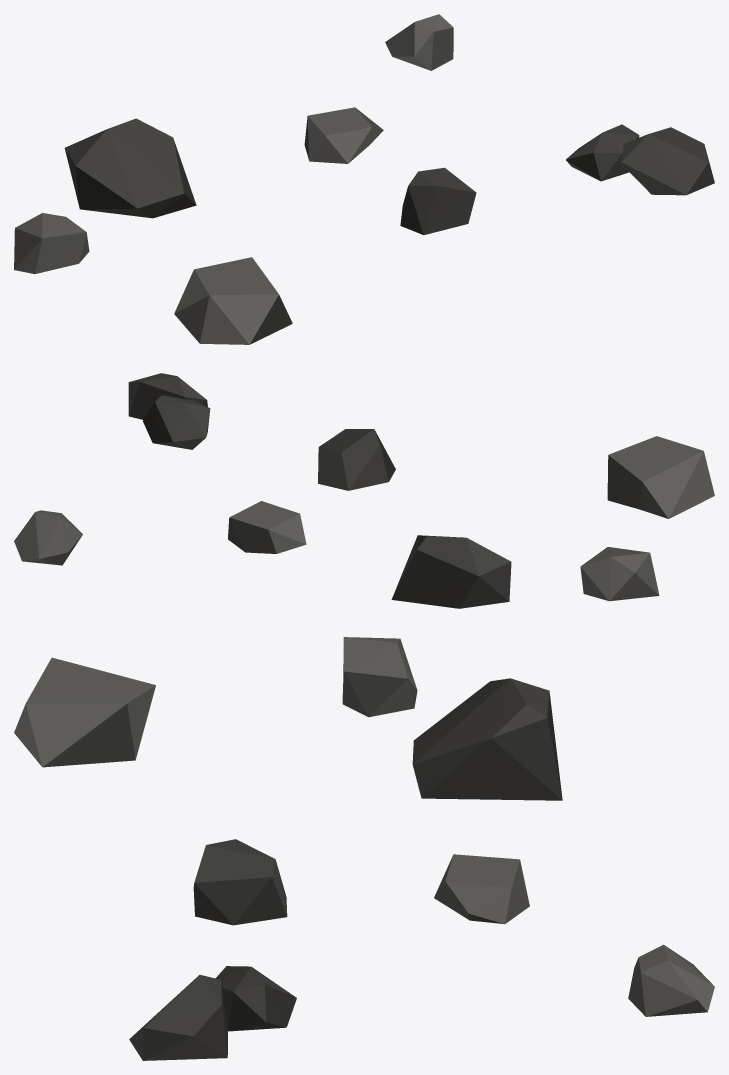
Rendered from SM_Env_Rock_Pebbles_03.fbx.
3 renders of one model, top to bottom at view 1: azimuth 30°, elevation 25°; view 2: azimuth 150°, elevation 25°; view 3: azimuth 270°, elevation 25°, orthographic. The views are drawn at different scales.
Parts seen in each view (by area): view 1: SM_Env_Rock_Pebbles_03; view 2: SM_Env_Rock_Pebbles_03; view 3: SM_Env_Rock_Pebbles_03.
Part boxes in pixels (x1,y1,x2,y2): SM_Env_Rock_Pebbles_03: (14, 14, 714, 344); SM_Env_Rock_Pebbles_03: (14, 373, 714, 608); SM_Env_Rock_Pebbles_03: (14, 637, 714, 1060).
Size of the model in its own units: 61.45 by 6.12 by 45.81.
Materials: 1 (1 with a texture image).
